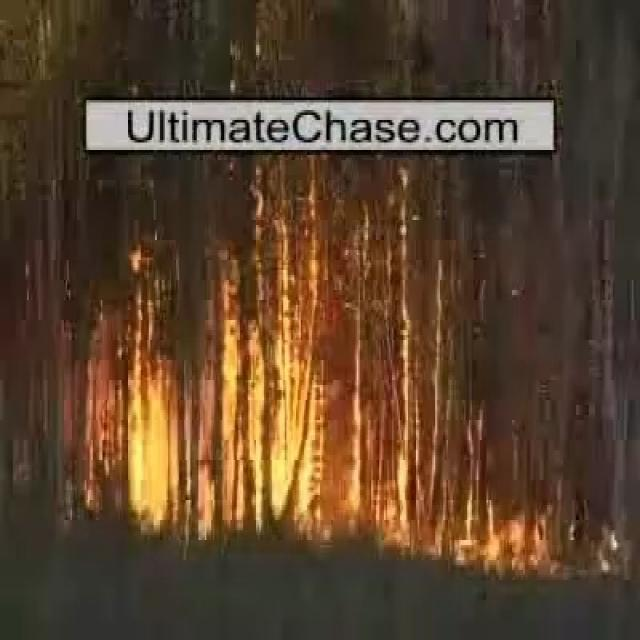fire: (130, 366, 313, 528)
